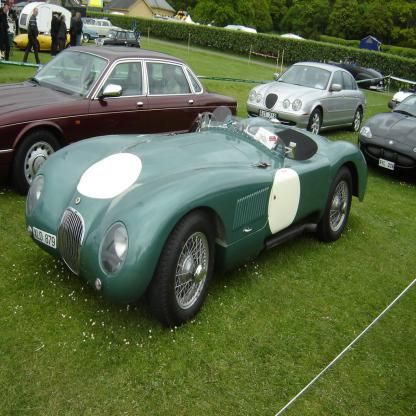Car: (25, 106, 368, 328), (0, 46, 237, 194), (248, 61, 367, 135), (358, 94, 416, 169), (328, 57, 386, 89), (11, 30, 81, 52), (19, 3, 72, 30), (95, 30, 139, 48), (84, 20, 122, 35)
